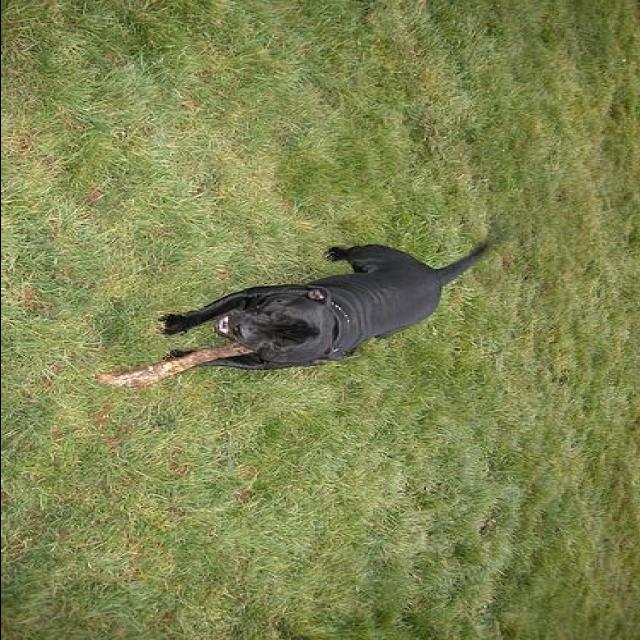staffordshire_bullterrier: (148, 236, 508, 376)
